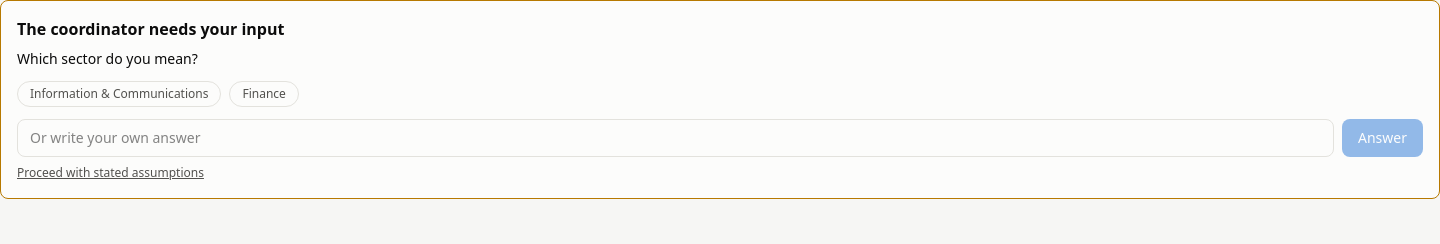
Test: ClarificationCard › explains an answer that arrived too late and refreshes
This screenshot has width=1440, height=244.
In the field named "Your answer": (676, 138) [17,119,1334,157], type "ICT"
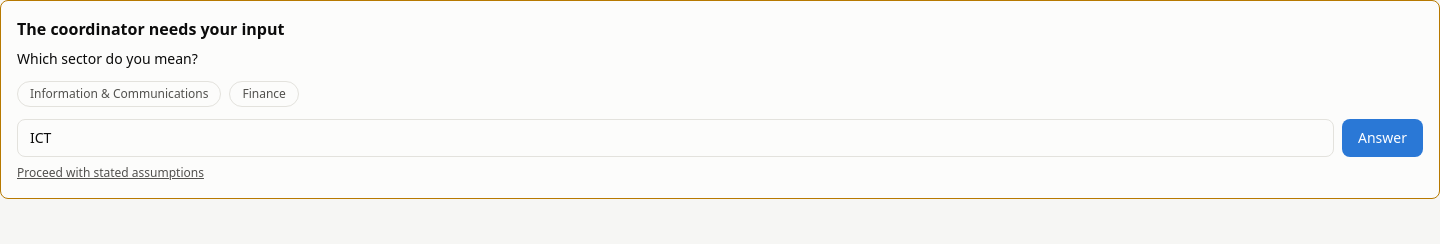
Click the button "Answer": (1382, 138) [1342,119,1423,157]
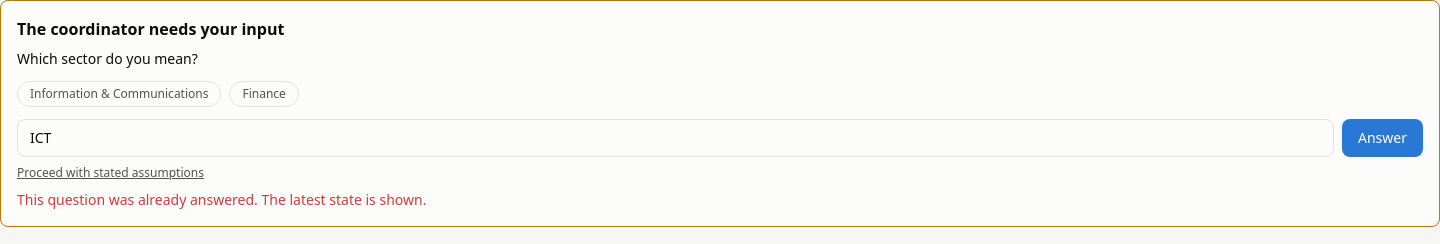
Expected: the message shows "already answered", [17,190,426,209]
